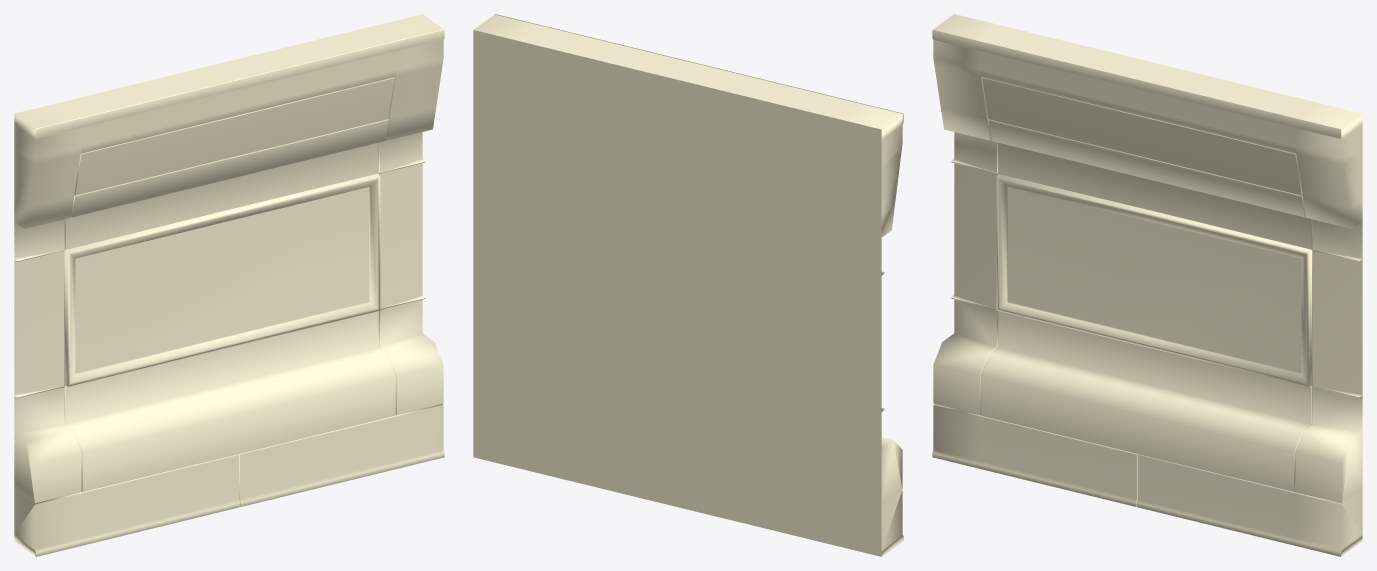
Rendered from ArtDecoFlatPatternedWall.001.glb.
3 views of the same model, side by side, from view 1: azimuth 30°, elevation 25°; view 2: azimuth 150°, elevation 25°; view 3: azimuth 330°, elevation 25° (orthographic).
Parts seen in each view (by area): view 1: ArtDecoFlatPatternedWall.001; view 2: ArtDecoFlatPatternedWall.001; view 3: ArtDecoFlatPatternedWall.001.
Boxes of the visible parts, x1,y1,x2,y2 form: ArtDecoFlatPatternedWall.001: [14, 14, 444, 556]; ArtDecoFlatPatternedWall.001: [473, 14, 903, 556]; ArtDecoFlatPatternedWall.001: [932, 14, 1362, 556].
Size of what is drawn, in the model's own units: 3.01 by 3.01 by 0.2787.
Materials: 1 (1 with a texture image).
